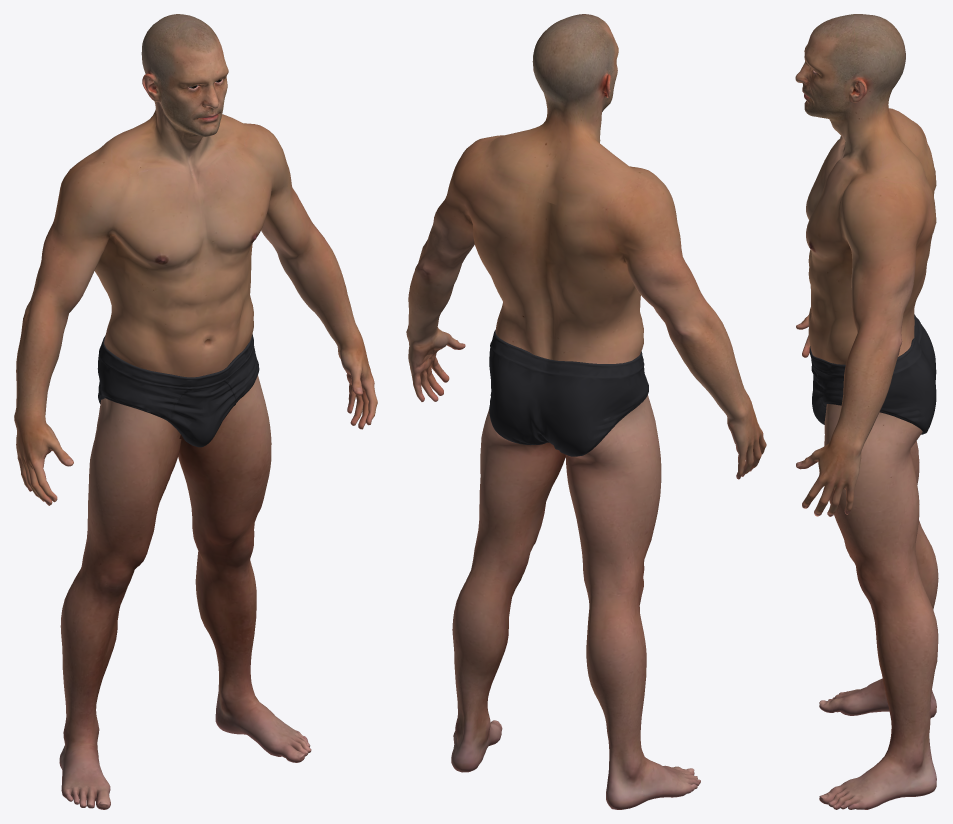
The model's file is skin-morph-lite.glb.
3 renders of one model, left to right at view 1: azimuth 30°, elevation 25°; view 2: azimuth 150°, elevation 25°; view 3: azimuth 270°, elevation 25°, orthographic.
Parts seen in each view (by area): view 1: Body_m, Underwear_m; view 2: Body_m, Underwear_m; view 3: Body_m, Underwear_m.
Part boxes in pixels (x1,y1,x2,y2): Body_m: (14, 14, 377, 809); Underwear_m: (97, 334, 259, 447); Body_m: (406, 14, 766, 809); Underwear_m: (489, 330, 648, 456); Body_m: (795, 14, 938, 809); Underwear_m: (809, 314, 936, 434).
Size of the model in its own units: 0.859 by 1.8 by 0.3151.
Materials: 4 (3 with a texture image).
